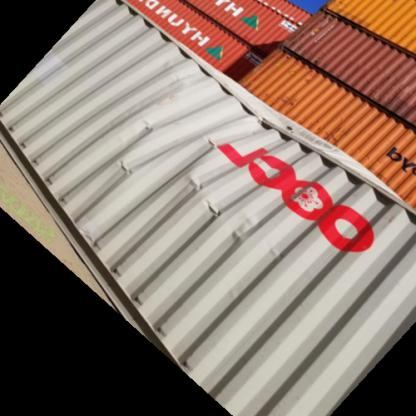Damage: (135, 58, 379, 256)
